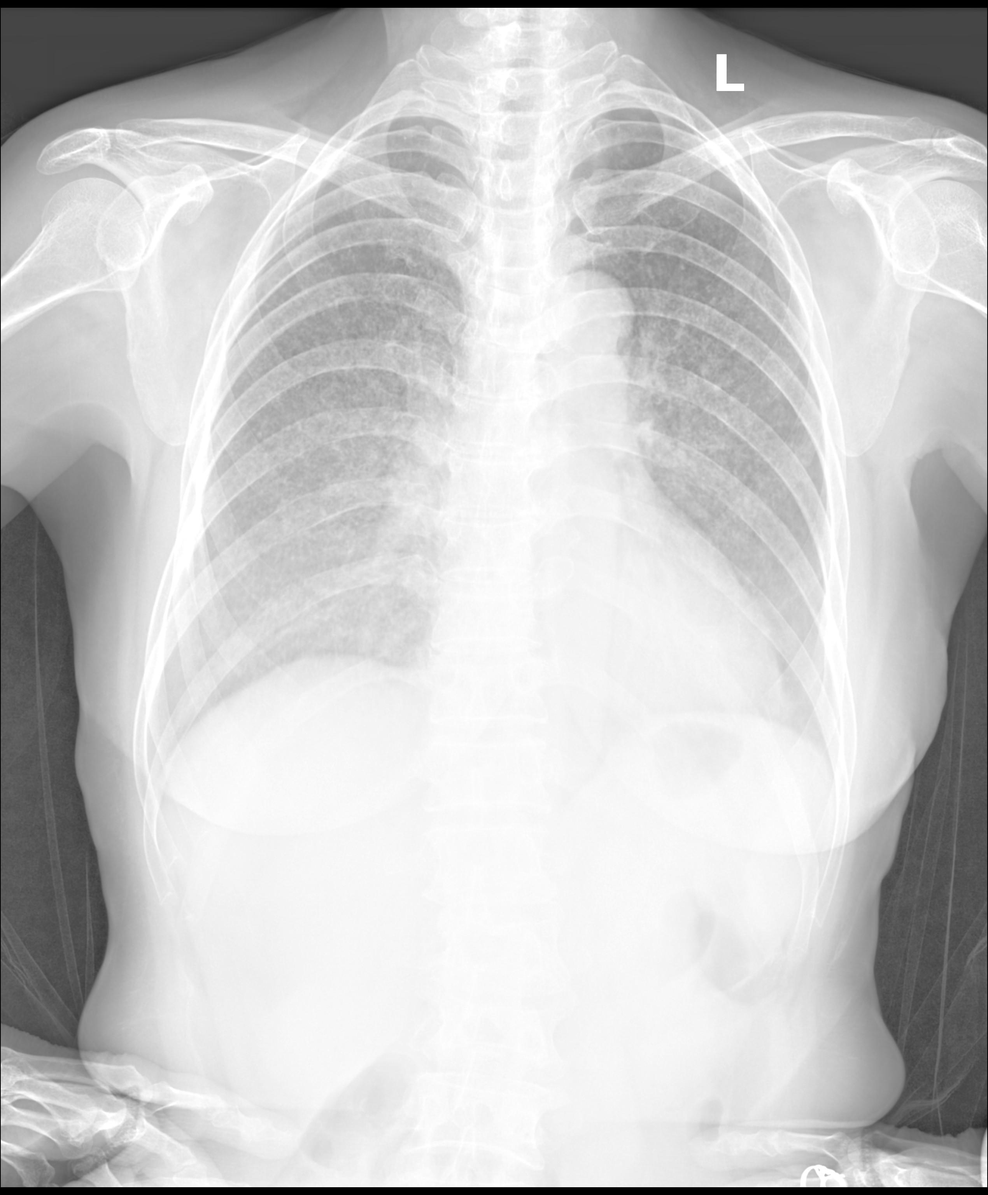Aortic enlargement: (524, 264, 639, 366)
Cardiomegaly: (421, 570, 790, 737)
